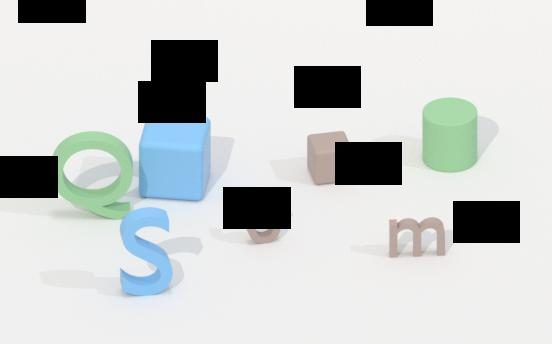6: (305, 129, 355, 187), (245, 189, 282, 248)
hop: (136, 111, 214, 204)
m: (385, 216, 451, 262)
q: (48, 128, 133, 221)
s: (118, 203, 176, 300)
tru: (419, 96, 480, 177)
